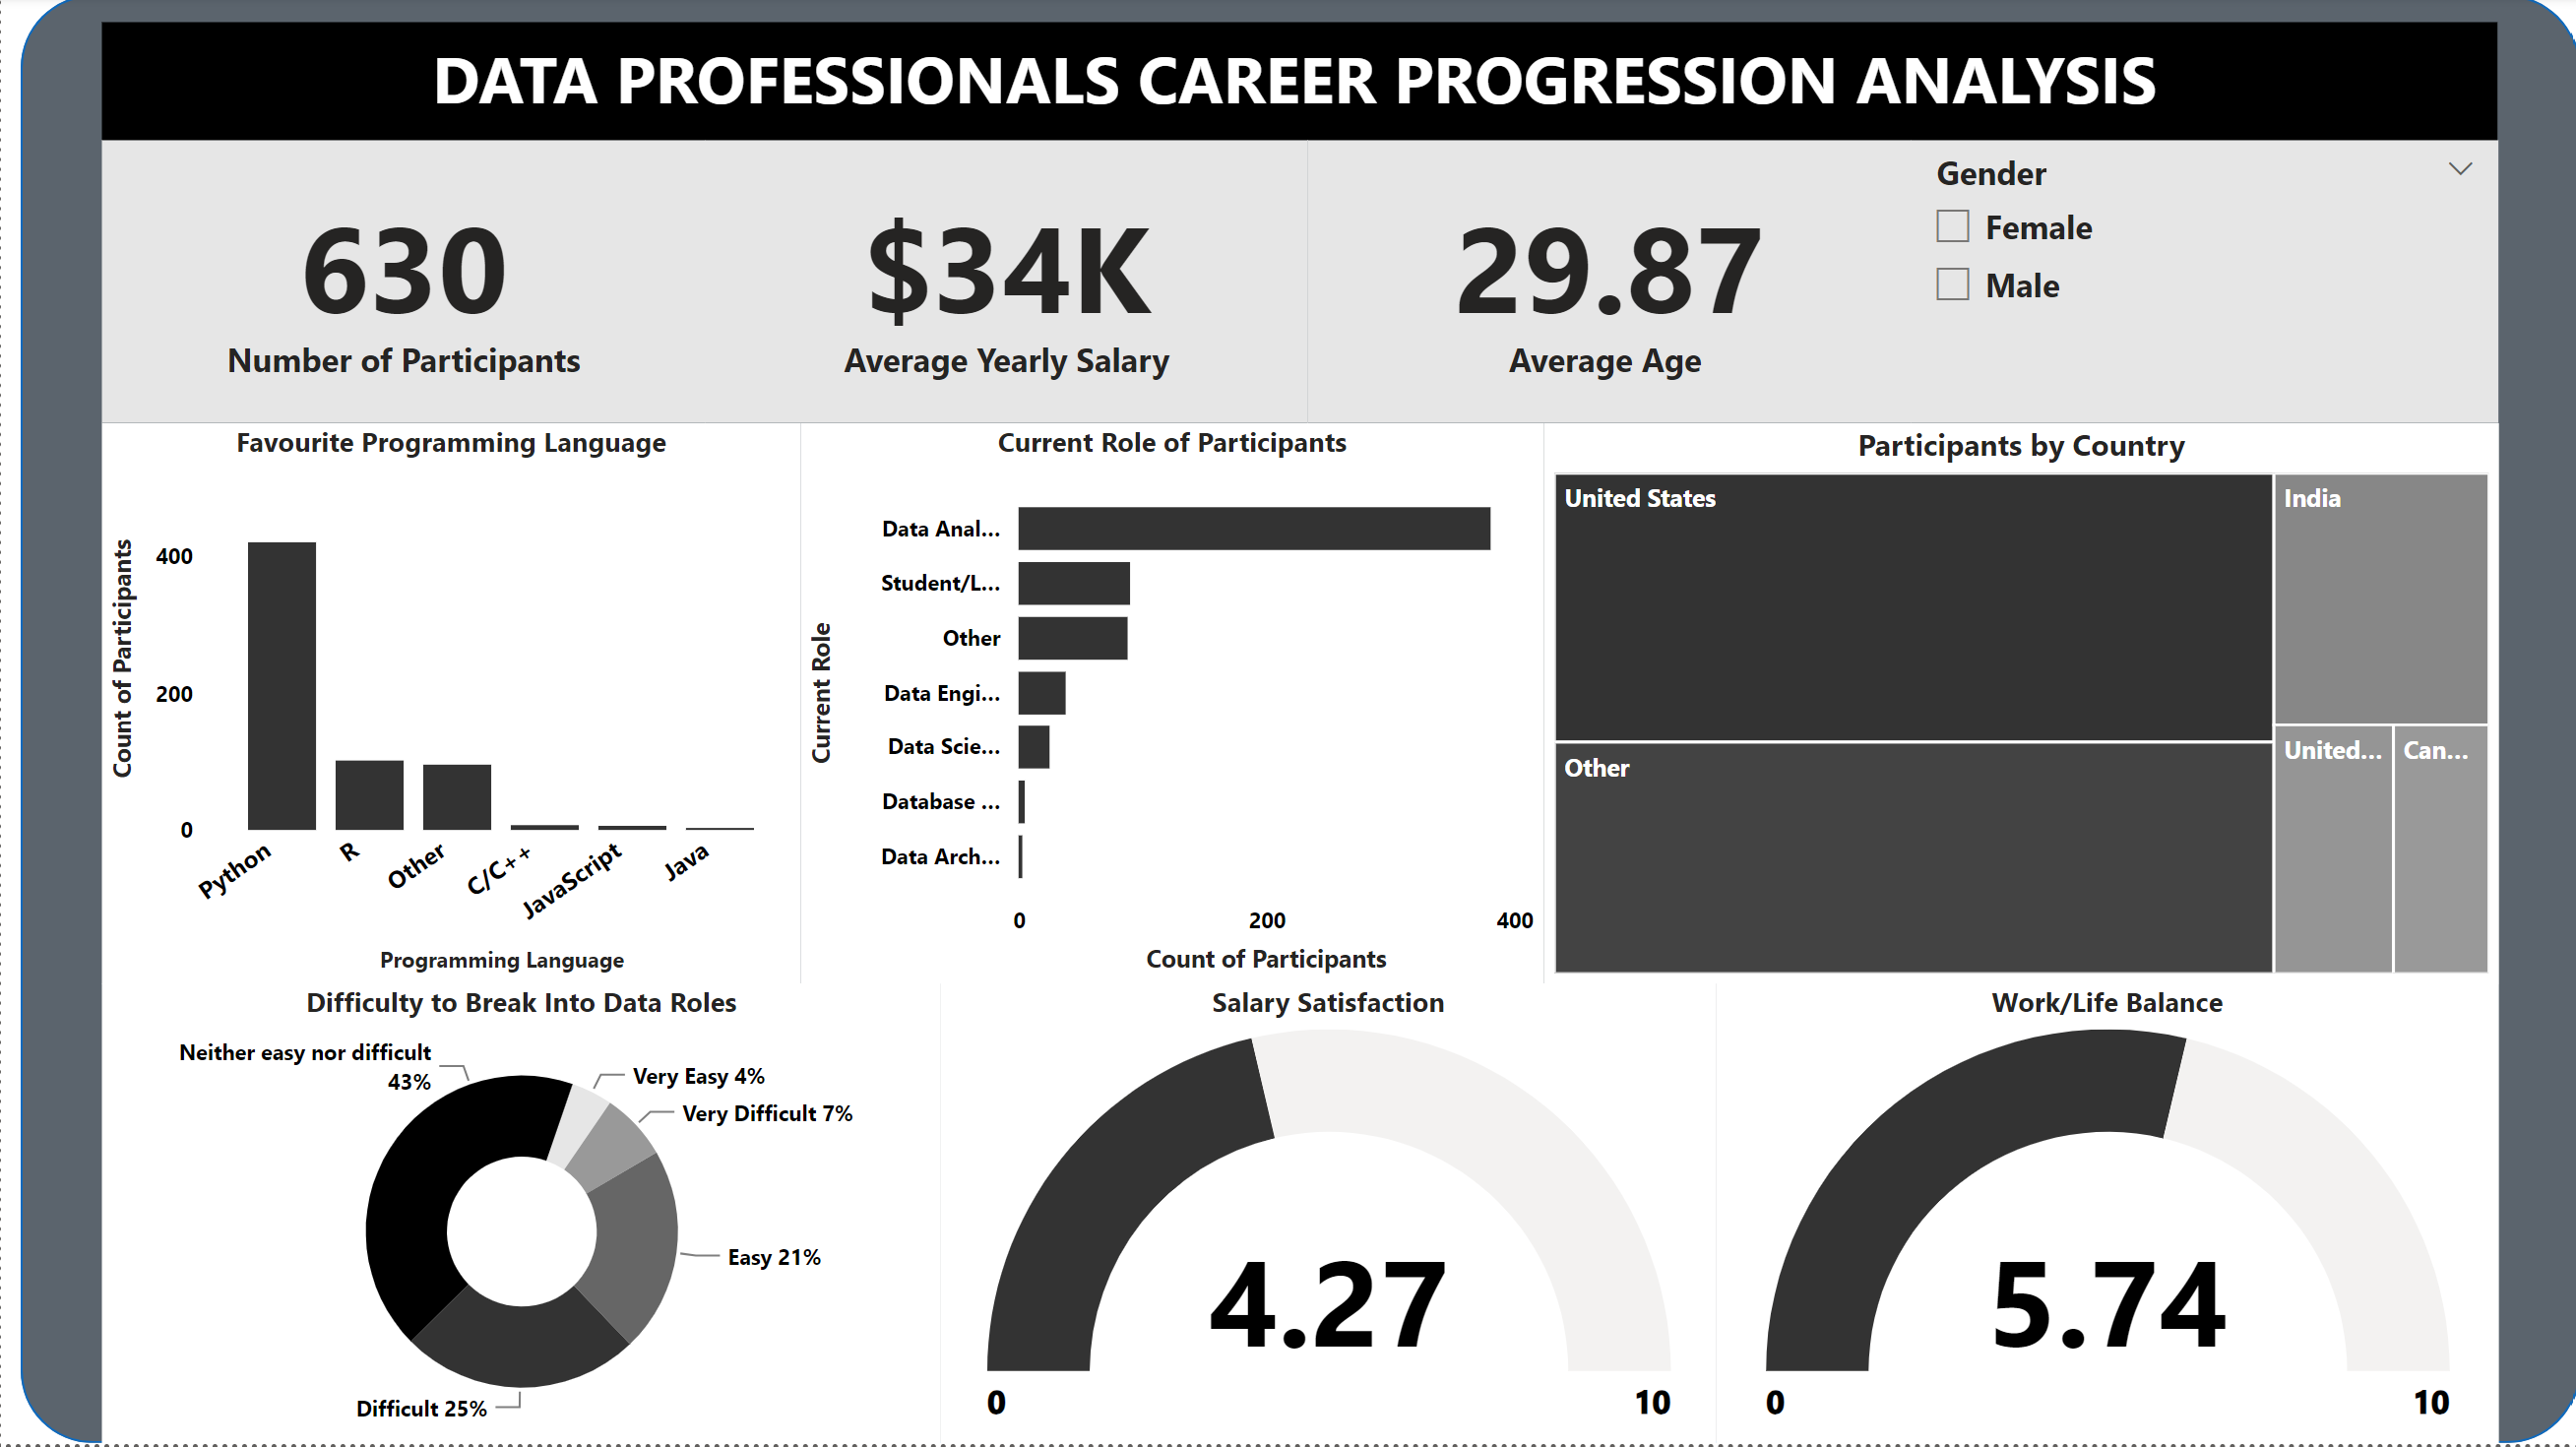

Layout of this report page (visuals, bound fields, positions):
{"tool":"powerbi","page":{"name":"Data Professional Analysis","canvas":[1280,720],"ordinal":0},"visuals":[{"type":"shape","box":[9.6,0,1271,719.8],"z":0},{"type":"textbox","box":[50.7,13.7,1190.1,59],"z":1000},{"type":"card","fields":{"Values":["Count(Data Professional Survey.Unique ID)"]},"box":[50.1,72.1,299.5,140.6],"z":2000},{"type":"card","fields":{"Values":["Sum(Data Professional Survey.Average salary)"]},"box":[349.6,72.1,299.5,140.6],"z":3000},{"type":"card","fields":{"Values":["Avg(Data Professional Survey.Q10 - Current Age)"]},"box":[649.1,72.1,299.5,140.6],"z":4000},{"type":"slicer","fields":{"Values":["Data Professional Survey.Q9 - Male/Female?"]},"box":[948.6,72.1,292.2,140.6],"z":5000},{"type":"treemap","title":"Participants by Country","fields":{"Values":["Count(Data Professional Survey.Unique ID)"],"Group":["Data Professional Survey.Q11 - Which Country do you live in?.1"]},"box":[766.5,212.7,474.3,278.7],"z":6000},{"type":"columnChart","title":"Favourite Programming Language","fields":{"Category":["Data Professional Survey.Q5 - Favorite Programming Language.1"],"Y":["Count(Data Professional Survey.Unique ID)"]},"box":[50.1,212.7,347.2,278.7],"z":7000},{"type":"clusteredBarChart","title":"Current Role of Participants","fields":{"Category":["Data Professional Survey.Q1 - Which Title Best Fits your Current Role?.1"],"Y":["Count(Data Professional Survey.Unique ID)"]},"box":[397.3,212.7,369.2,278.7],"z":8000},{"type":"donutChart","title":"Difficulty to Break Into Data Roles","fields":{"Category":["Data Professional Survey.Q7 - How difficult was it for you to break into Data?"],"Y":["Count(Data Professional Survey.Unique ID)"]},"box":[50.1,491.4,416.8,228.6],"z":9000},{"type":"gauge","title":"Work/Life Balance","fields":{"Y":["Avg(Data Professional Survey.Q6 - How Happy are you in your Current Position with the following? (Work/Life Balance))"],"MinValue":["Min(Data Professional Survey.Q6 - How Happy are you in your Current Position with the following? (Work/Life Balance))"],"MaxValue":["Max(Data Professional Survey.Q6 - How Happy are you in your Current Position with the following? (Work/Life Balance))"]},"box":[852,491.4,388.7,228.6],"z":10000},{"type":"gauge","title":"Salary Satisfaction","fields":{"Y":["Avg(Data Professional Survey.Q6 - How Happy are you in your Current Position with the following? (Salary))"],"MaxValue":["Max(Data Professional Survey.Q6 - How Happy are you in your Current Position with the following? (Salary))"],"MinValue":["Min(Data Professional Survey.Q6 - How Happy are you in your Current Position with the following? (Salary))"]},"box":[467,491.4,385.1,228.6],"z":11000}]}

Visuals, with their boxes in screenshot pixels (x1, y1, x2, y2), scaled from the page's 1280x720 canvas onto the 2576x1447 screenshot:
shape: <box>20,0,2575,1446</box>
textbox: <box>102,28,2497,146</box>
card - Count(Data Professional Survey.Unique ID): <box>100,145,704,427</box>
card - Sum(Data Professional Survey.Average salary): <box>704,145,1306,427</box>
card - Avg(Data Professional Survey.Q10 - Current Age): <box>1306,145,1909,427</box>
slicer - Data Professional Survey.Q9 - Male/Female?: <box>1909,145,2497,427</box>
"Participants by Country" treemap: <box>1542,427,2497,987</box>
"Favourite Programming Language" columnChart: <box>100,427,799,987</box>
"Current Role of Participants" clusteredBarChart: <box>799,427,1542,987</box>
"Difficulty to Break Into Data Roles" donutChart: <box>100,987,940,1446</box>
"Work/Life Balance" gauge: <box>1715,987,2497,1446</box>
"Salary Satisfaction" gauge: <box>940,987,1715,1446</box>
